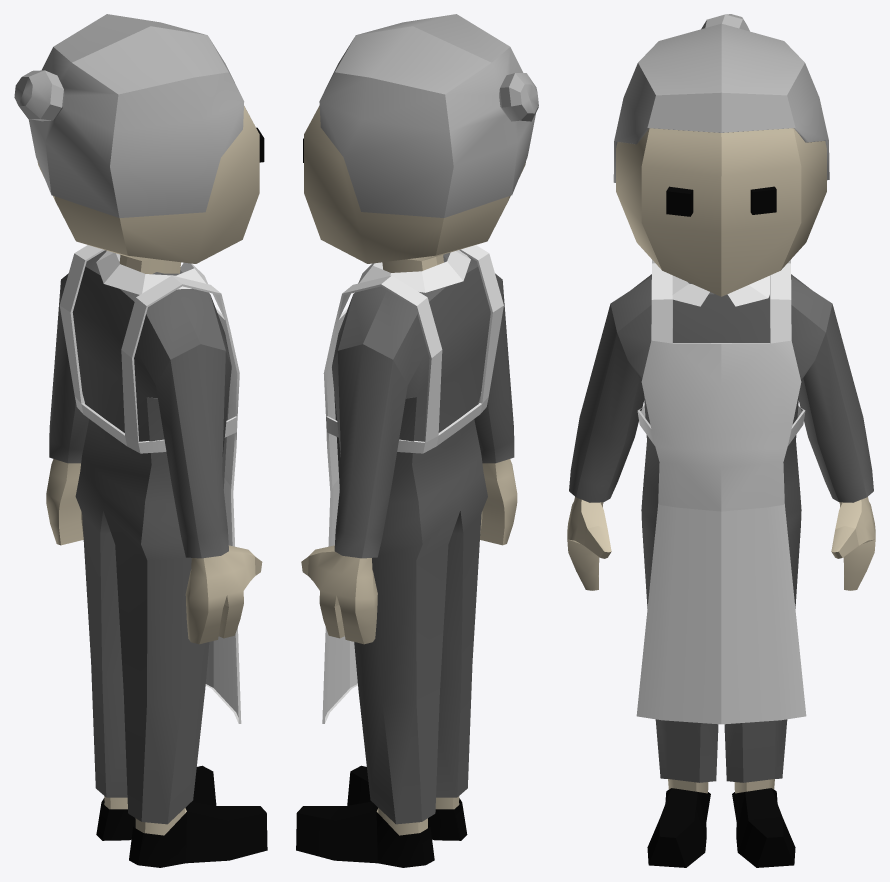
The model's file is nanny.fbx.
The picture shows the model from 3 angles, left to right: view 1: azimuth 30°, elevation 25°; view 2: azimuth 150°, elevation 25°; view 3: azimuth 270°, elevation 25°; orthographic projection. The views are drawn at different scales.
Visible parts, largest first — view 1: geo_nanny; view 2: geo_nanny; view 3: geo_nanny.
Boxes of the visible parts, x1,y1,x2,y2 form: geo_nanny: (14,14,267,867); geo_nanny: (296,14,538,867); geo_nanny: (567,14,875,867).
Bounding box in the file's own units: 0.4913 × 1.76 × 0.6265.
